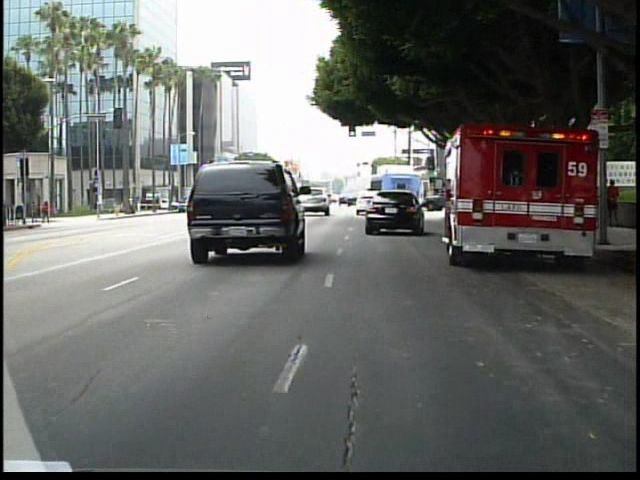person: (603, 176, 622, 230), (42, 199, 55, 227), (29, 200, 42, 227)
